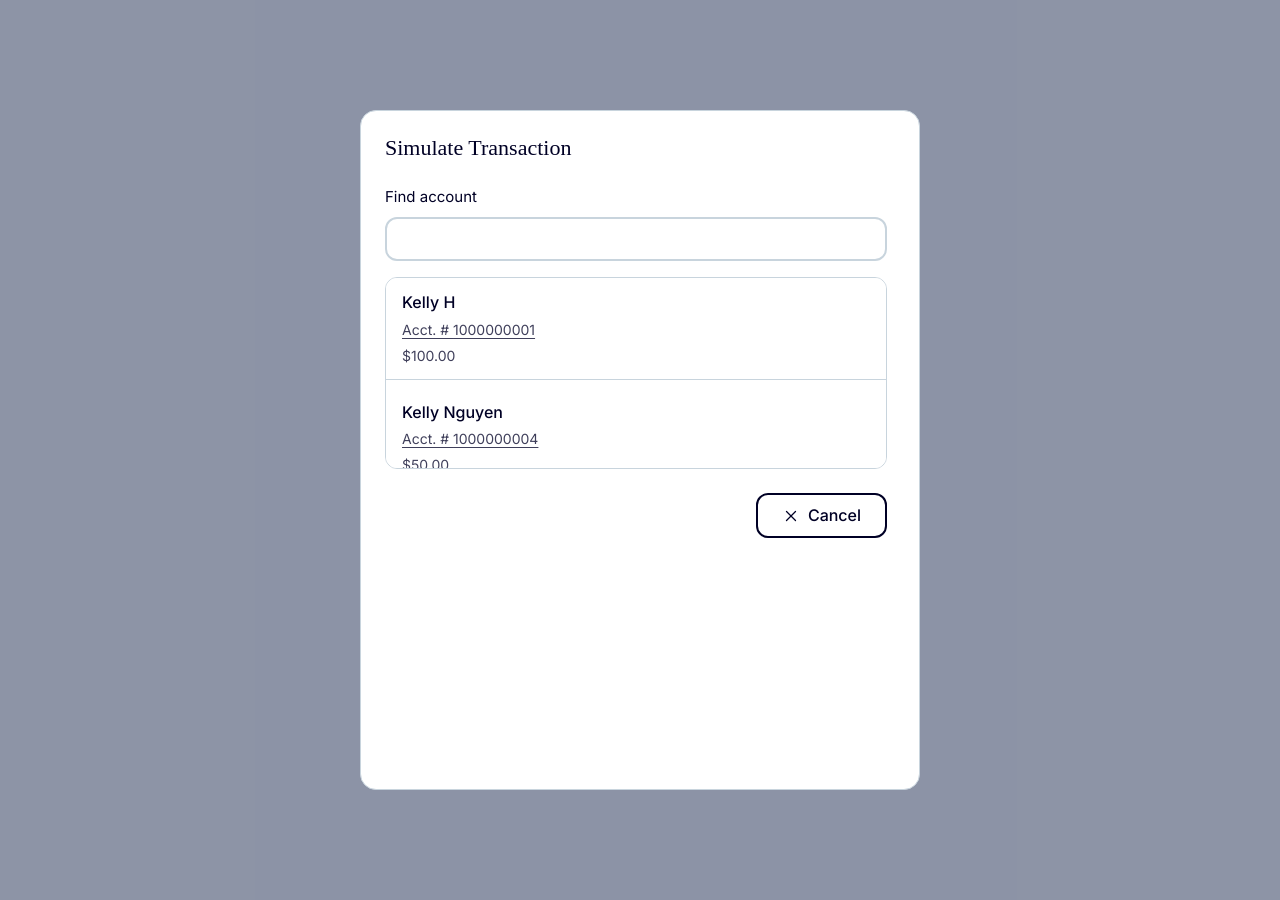
Scenario: SimulateTransactionModal › blocks purchase and links to the account when no card is issued
Type "Nguyen" into the field labelled "Find account" at (636, 239), box [385,217,887,261]
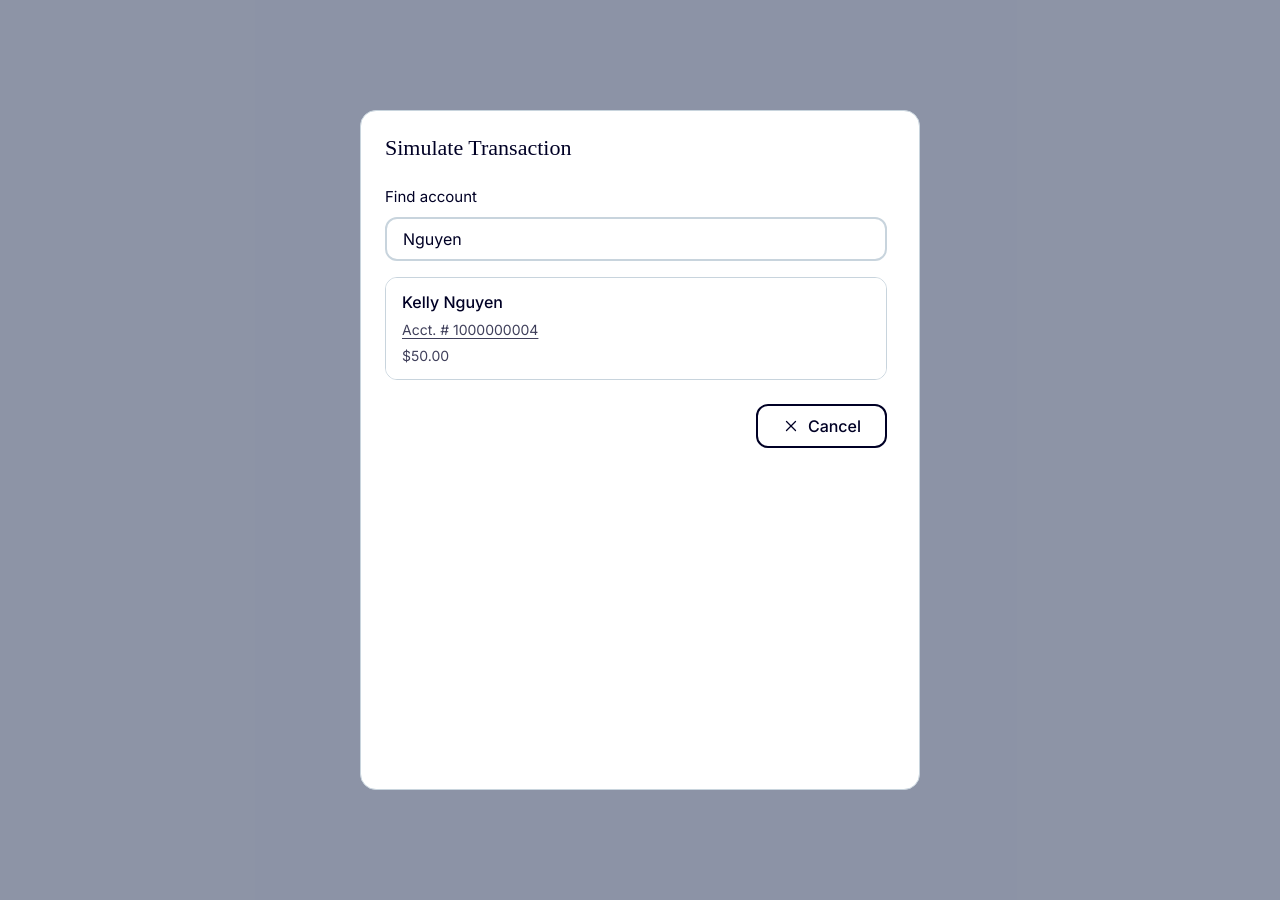
Click the button "Kelly Nguyen" at (452, 303), box [402,290,503,315]
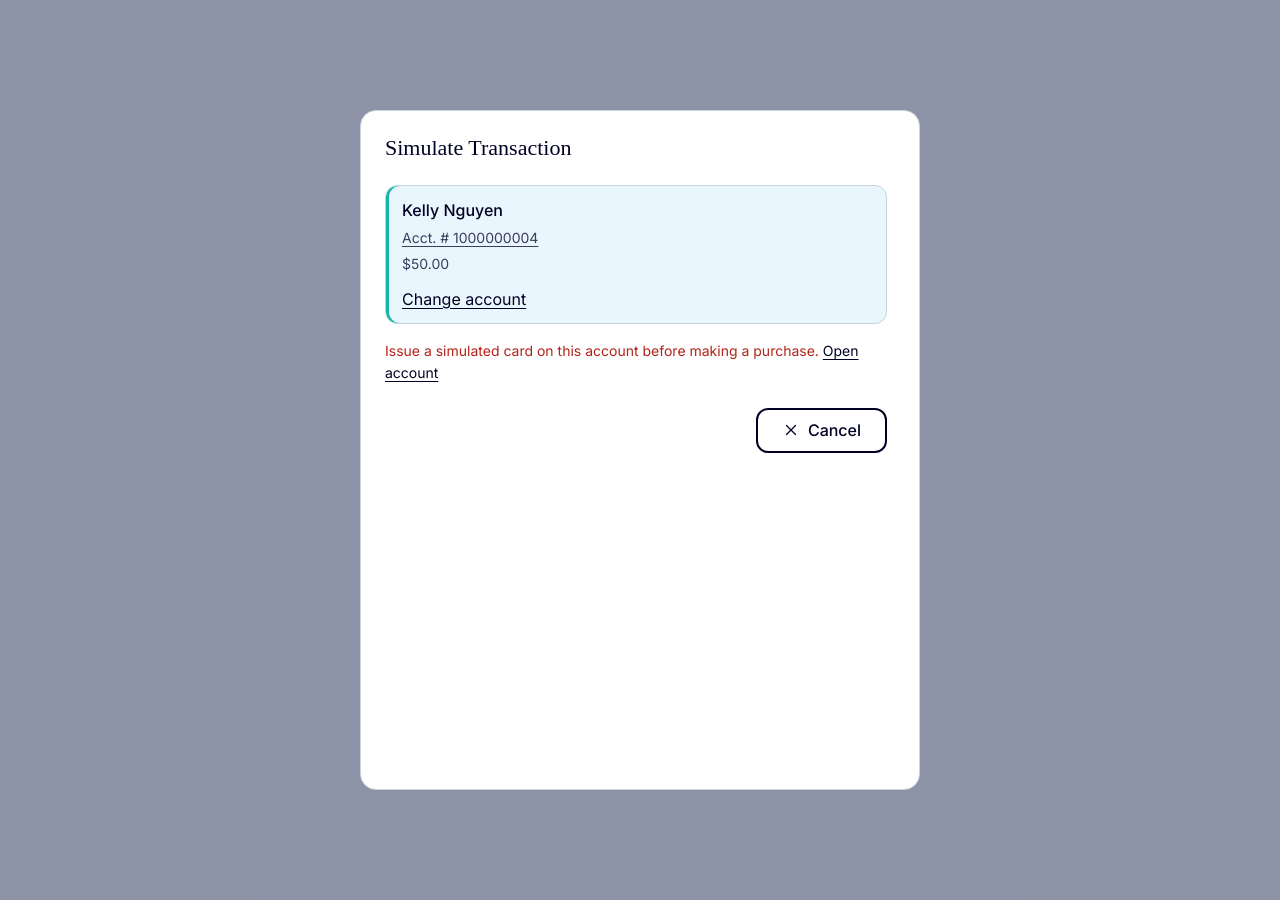
expect the button "Kelly H" is not shown: met
expect the text labelled "Find account" is gone: met
expect the text "Issue a simulated card on this account before making a purchase. Open account" is shown: met, box [385,340,887,384]
